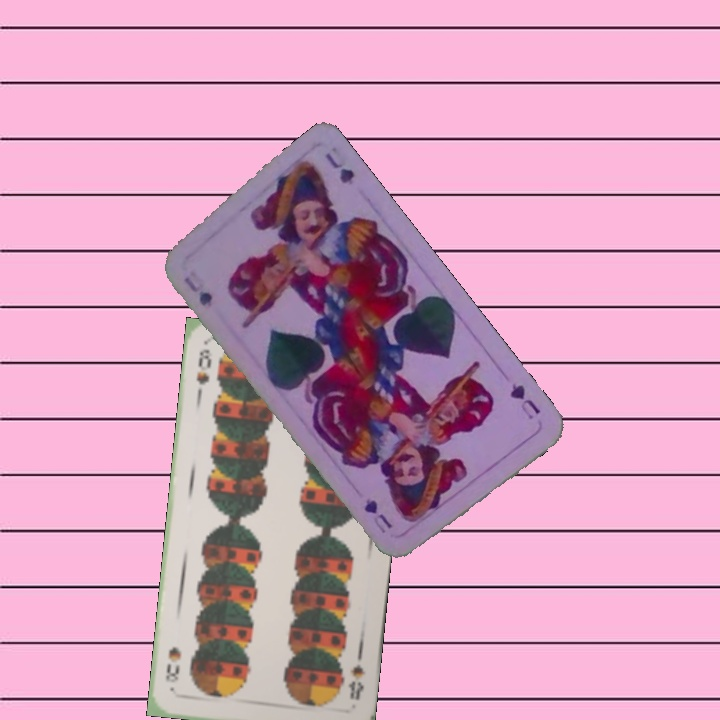GU: (505, 379, 543, 423), (180, 266, 215, 310)
S8: (192, 345, 214, 403), (344, 660, 368, 702)
